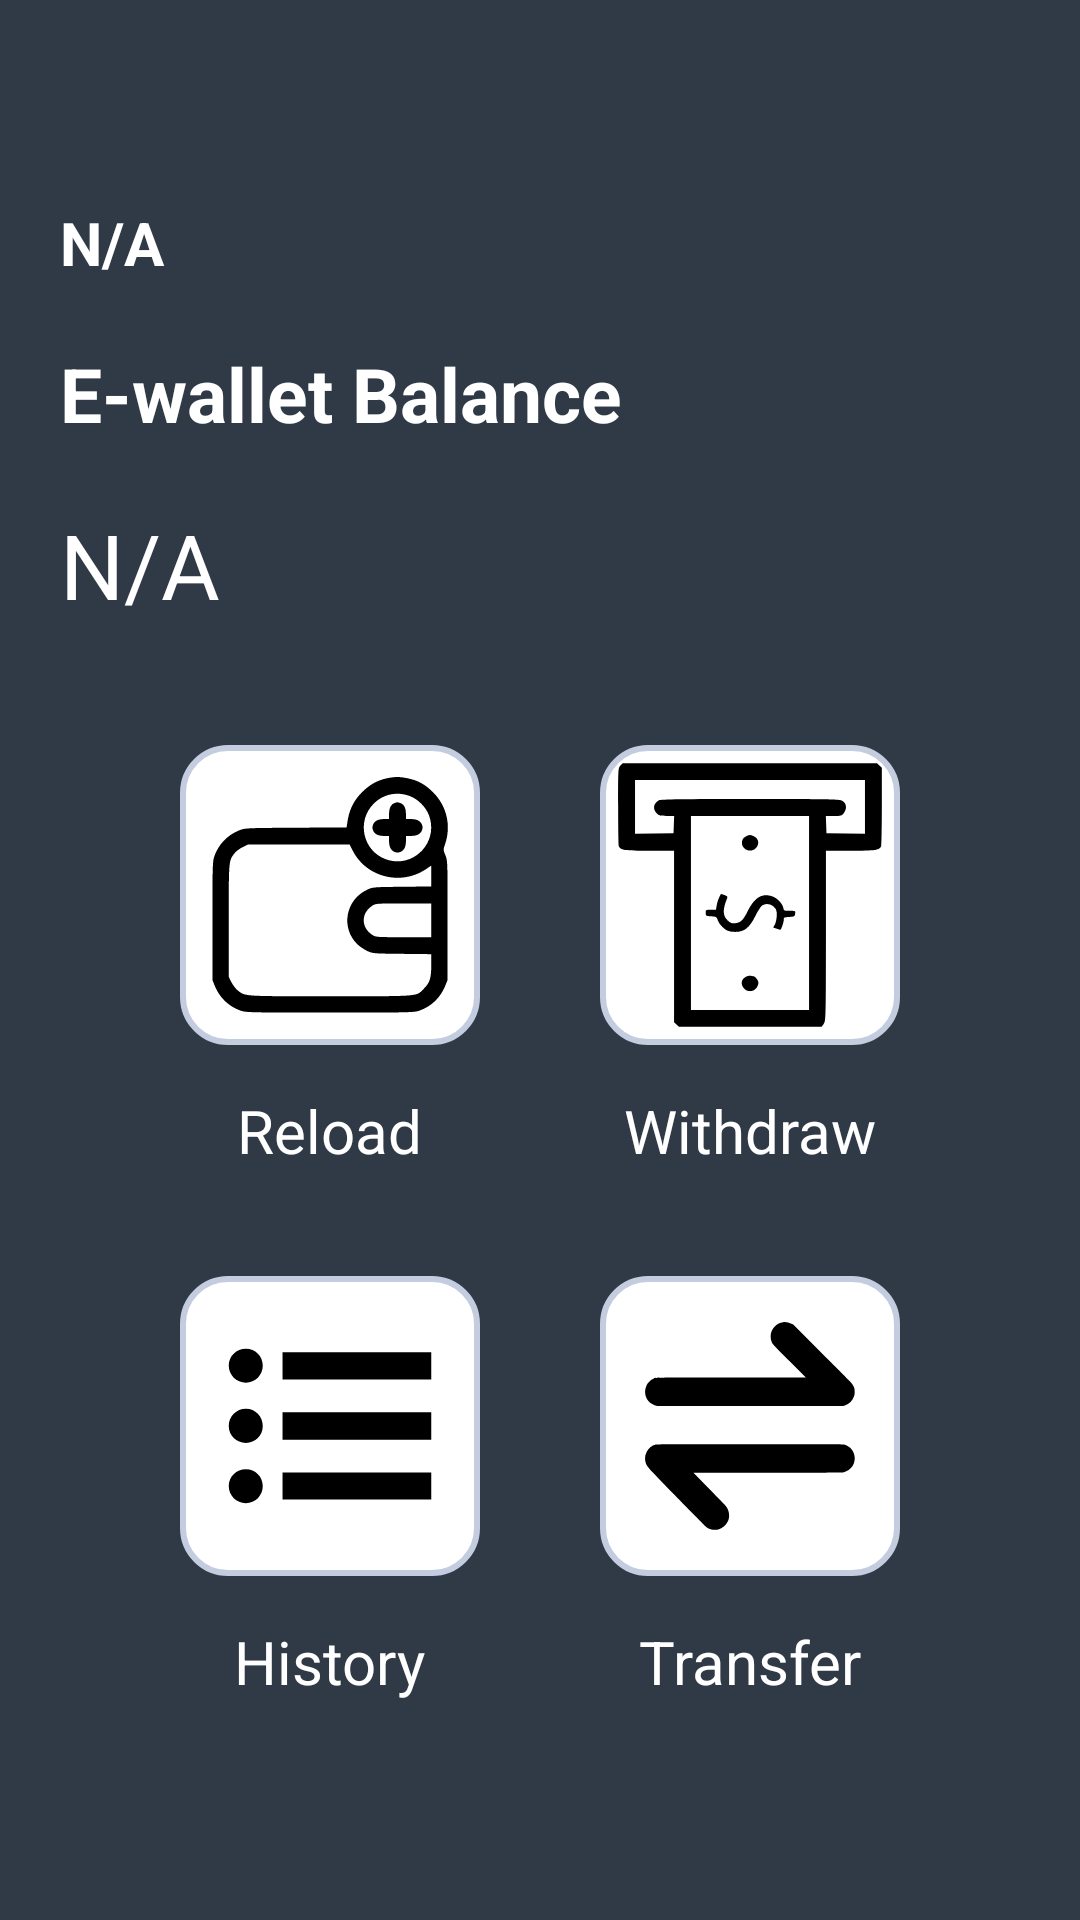

Named icons in this screenshot (1080*1920) and their bounding boxes, region(x1, y1, x2, y2):
list: region(180, 1276, 480, 1576)
